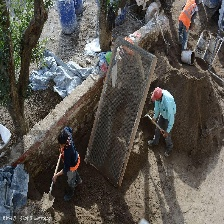no-helmet: (56, 127, 70, 149)
person: (56, 124, 83, 203), (150, 86, 177, 160), (178, 0, 198, 54)
